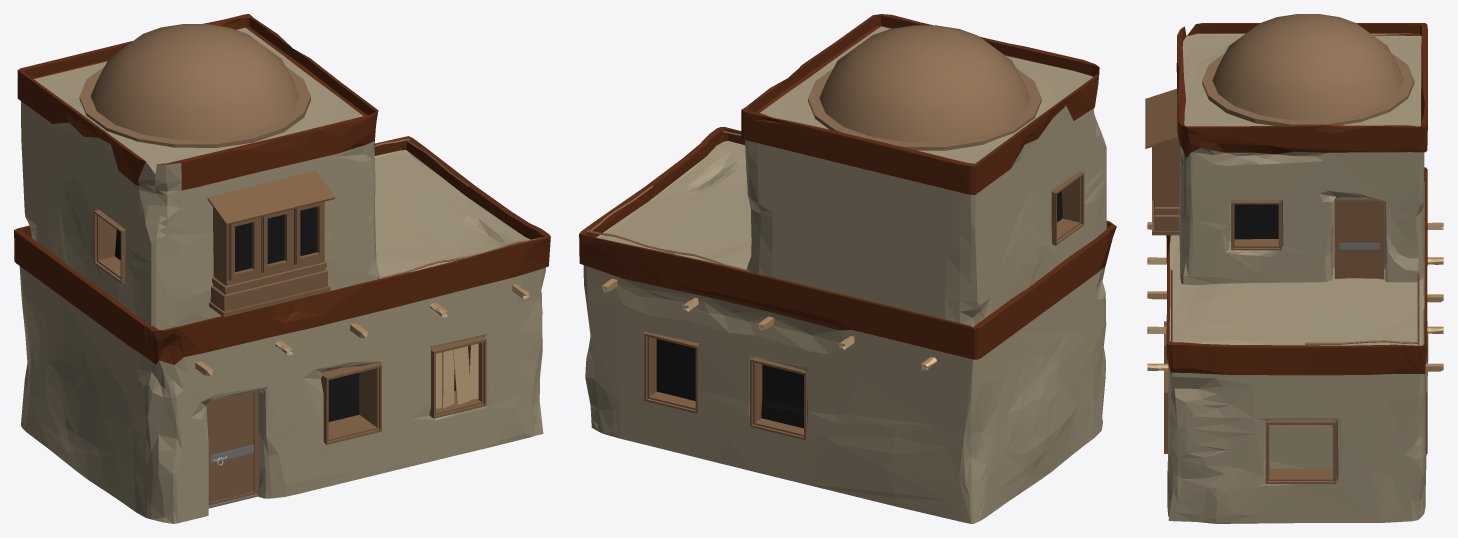
File: SM_house_sandstone_arabian_01.fbx
3 views of the same model, side by side, from view 1: azimuth 30°, elevation 25°; view 2: azimuth 150°, elevation 25°; view 3: azimuth 270°, elevation 25° (orthographic). The views are drawn at different scales.
Visible parts, largest first — view 1: Object197; view 2: Object197; view 3: Object197.
Boxes of the visible parts, x1,y1,x2,y2 form: Object197: (14, 14, 550, 523); Object197: (579, 14, 1116, 523); Object197: (1145, 14, 1443, 523).
Bounding box in the file's own units: 320 × 226 × 313.
